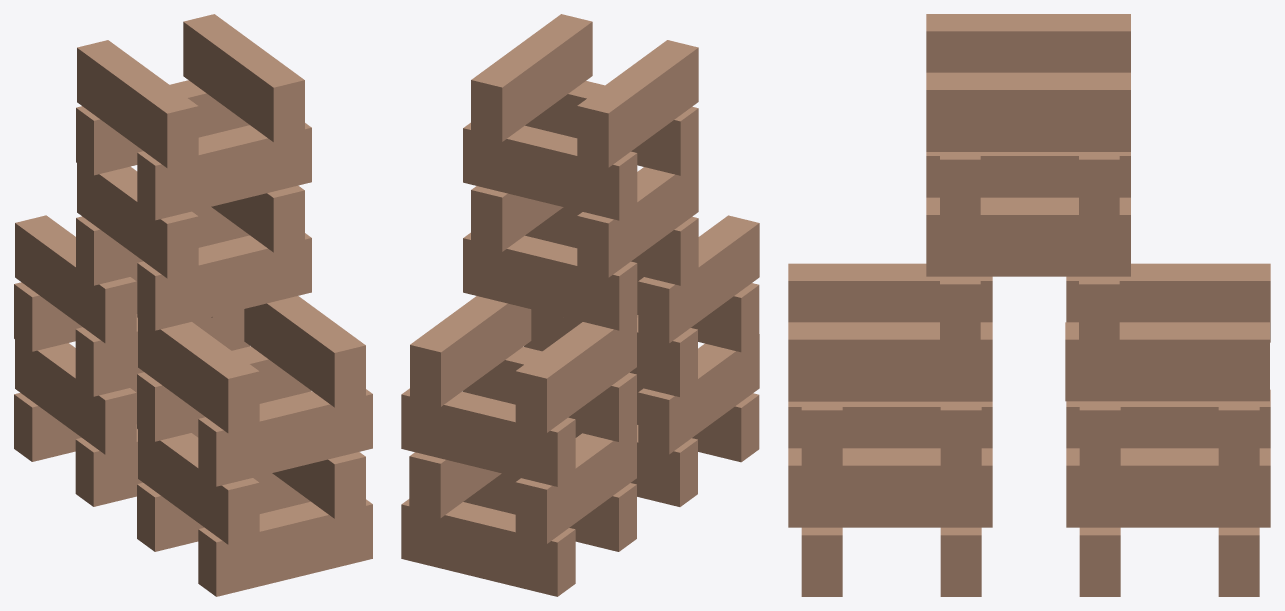
File: three_tower.dae
3 views of the same model, side by side, from view 1: azimuth 30°, elevation 25°; view 2: azimuth 150°, elevation 25°; view 3: azimuth 270°, elevation 25° (orthographic). The views are drawn at different scales.
Parts seen in each view (by area): view 1: base (×22); view 2: base (×22); view 3: base (×24).
Part boxes in pixels (bbox=[...]): base (×22): bbox=[14, 14, 372, 596]; base (×22): bbox=[401, 14, 759, 596]; base (×24): bbox=[788, 14, 1270, 596].
Size of the model in its own units: 0.1524 by 0.3596 by 0.4109.
